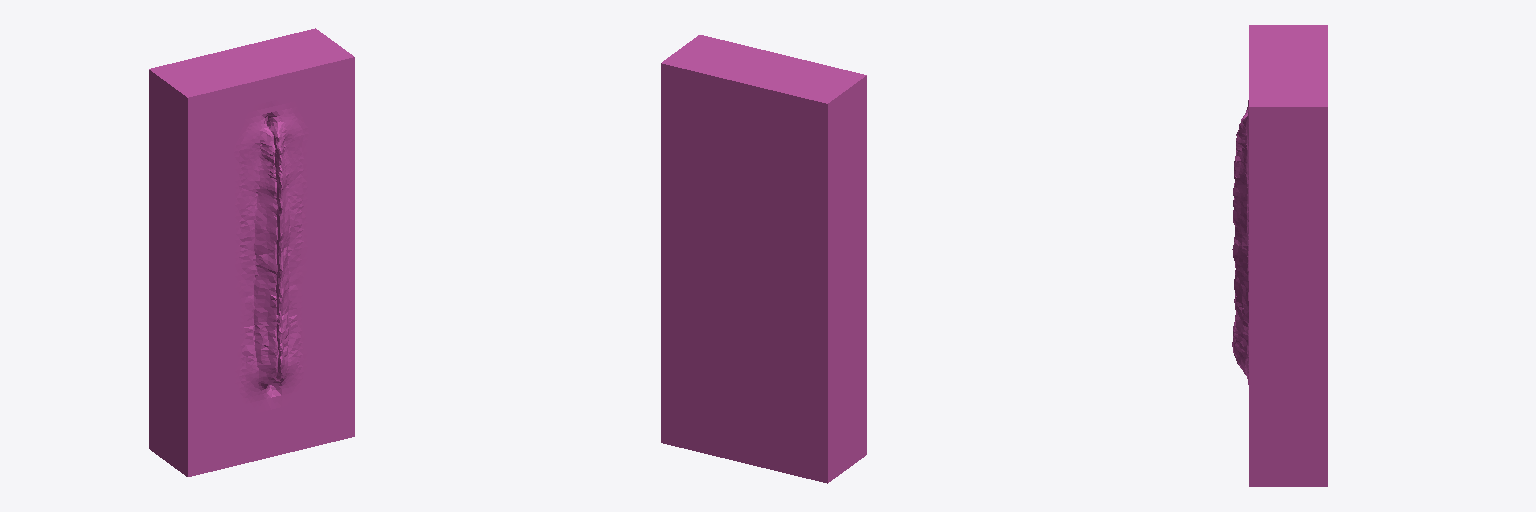
File: Phantom.OBJ
The picture shows the model from 3 angles: view 1: azimuth 30°, elevation 25°; view 2: azimuth 150°, elevation 25°; view 3: azimuth 270°, elevation 25°; orthographic projection.
Visible parts, largest first — view 1: /ambf/env/Phantom_New_Phantom; view 2: /ambf/env/Phantom_New_Phantom; view 3: /ambf/env/Phantom_New_Phantom.
Part boxes in pixels (x1,y1,x2,y2): /ambf/env/Phantom_New_Phantom: (149, 28, 354, 476); /ambf/env/Phantom_New_Phantom: (661, 35, 866, 483); /ambf/env/Phantom_New_Phantom: (1232, 25, 1327, 486).
Size of the model in its own units: 0.797 by 1.73 by 0.3934.